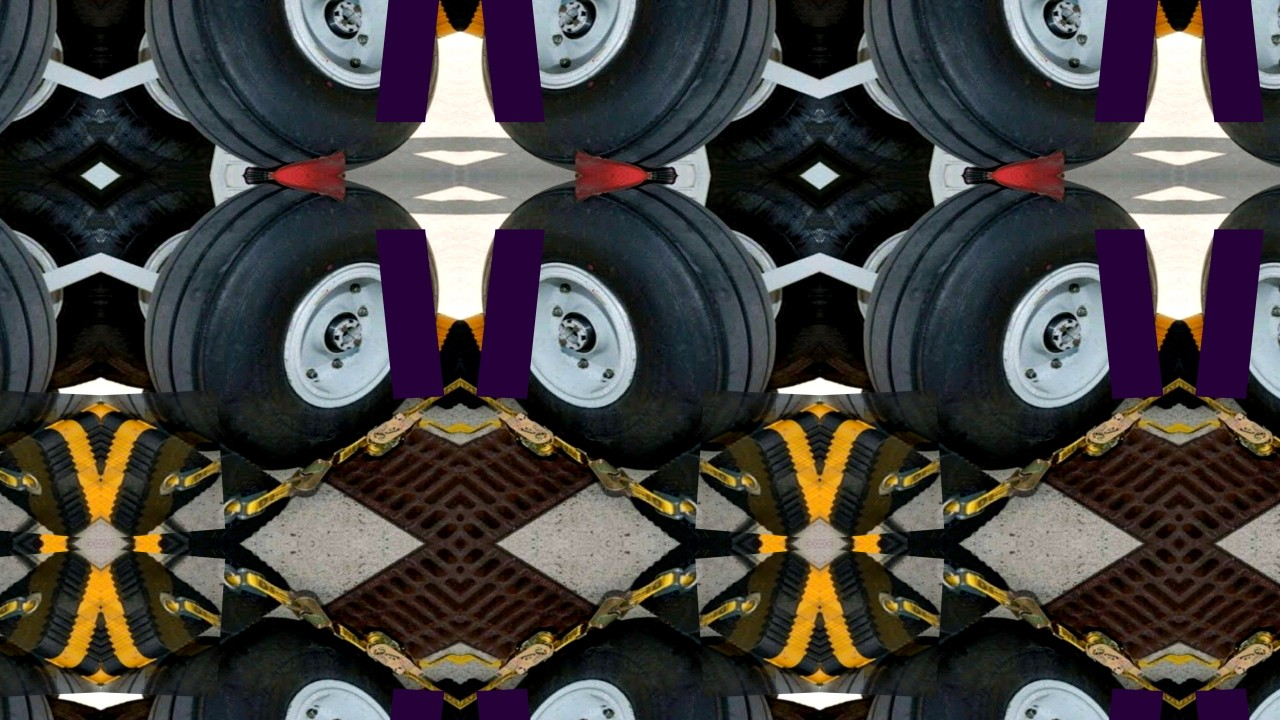chock: (100, 394, 297, 544), (623, 394, 820, 544), (820, 394, 1017, 544), (100, 544, 297, 694), (623, 544, 820, 694), (820, 544, 1017, 694), (100, 390, 225, 544), (695, 390, 820, 544), (820, 390, 945, 544), (100, 544, 225, 698), (695, 544, 820, 698), (820, 544, 945, 698), (0, 390, 100, 544), (0, 544, 100, 698), (0, 394, 100, 544), (0, 544, 100, 694), (379, 310, 460, 413), (460, 310, 541, 413), (1099, 310, 1180, 413), (1180, 310, 1261, 413), (52, 398, 100, 491), (100, 398, 148, 491), (772, 398, 820, 491), (820, 398, 868, 491), (52, 597, 100, 690), (100, 597, 148, 690), (772, 597, 820, 690), (820, 597, 868, 690), (379, 675, 460, 720), (460, 675, 541, 720), (1099, 675, 1180, 720), (1180, 675, 1261, 720), (379, 0, 460, 41), (460, 0, 541, 41), (1099, 0, 1180, 41), (1180, 0, 1261, 41)
wheel: (143, 176, 460, 470), (460, 176, 777, 470), (863, 176, 1180, 470), (143, 0, 460, 175), (460, 0, 777, 175), (863, 0, 1180, 175), (143, 618, 460, 720), (460, 618, 777, 720), (863, 618, 1180, 720), (1180, 176, 1280, 470), (100, 175, 224, 389), (696, 175, 820, 389), (820, 175, 944, 389), (100, 0, 224, 176), (696, 0, 820, 176), (820, 0, 944, 176), (0, 175, 100, 389), (0, 0, 100, 176), (1180, 0, 1280, 175), (0, 176, 57, 470), (1180, 618, 1280, 720), (0, 0, 57, 175)
